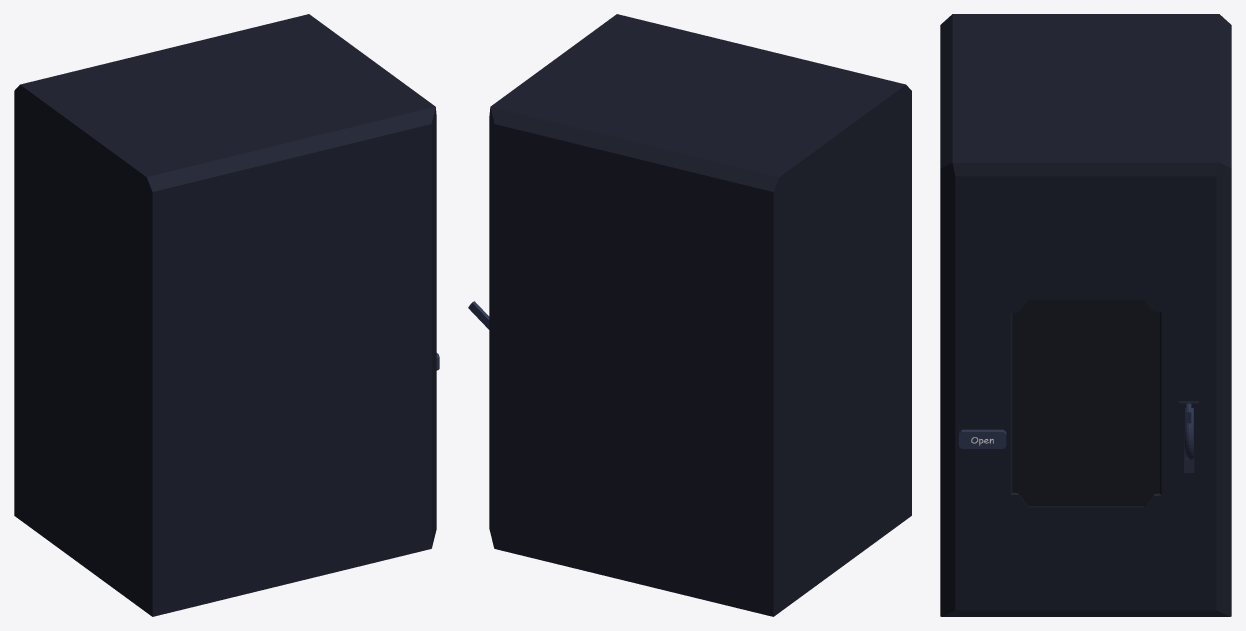
File: fabricator.glb
The picture shows the model from 3 angles, left to right: view 1: azimuth 30°, elevation 25°; view 2: azimuth 150°, elevation 25°; view 3: azimuth 270°, elevation 25°; orthographic projection. The views are drawn at different scales.
Parts seen in each view (by area): view 1: Cube; view 2: Cube; view 3: Cube, Door, OpenButton, Lever.
Part boxes in pixels (left/top/right/bottom): Cube: left=14, top=14, right=436, bottom=616; Cube: left=489, top=14, right=911, bottom=616; Cube: left=940, top=14, right=1231, bottom=616; Door: left=1012, top=300, right=1159, bottom=506; OpenButton: left=959, top=429, right=1006, bottom=448; Lever: left=1184, top=403, right=1193, bottom=460.
Bounding box in the file's own units: 9.66 × 12.37 × 7.12.
Materials: 3 (1 with a texture image).
